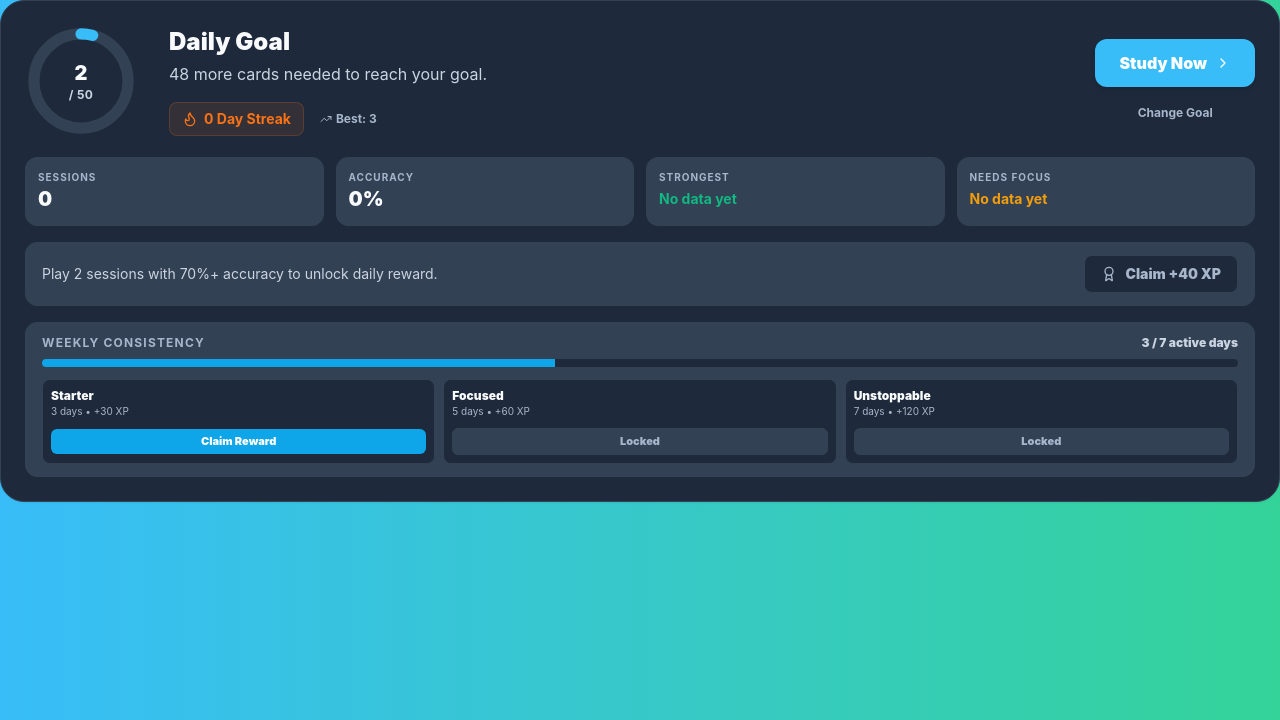
Test case: DailyProgressWidget › claims weekly consistency reward when enough active days are reached
Expected: the text "3 / 7 active days" is shown, [1142,335,1238,351]
Click the button "Claim Reward" at (239, 441), box [51,429,426,454]
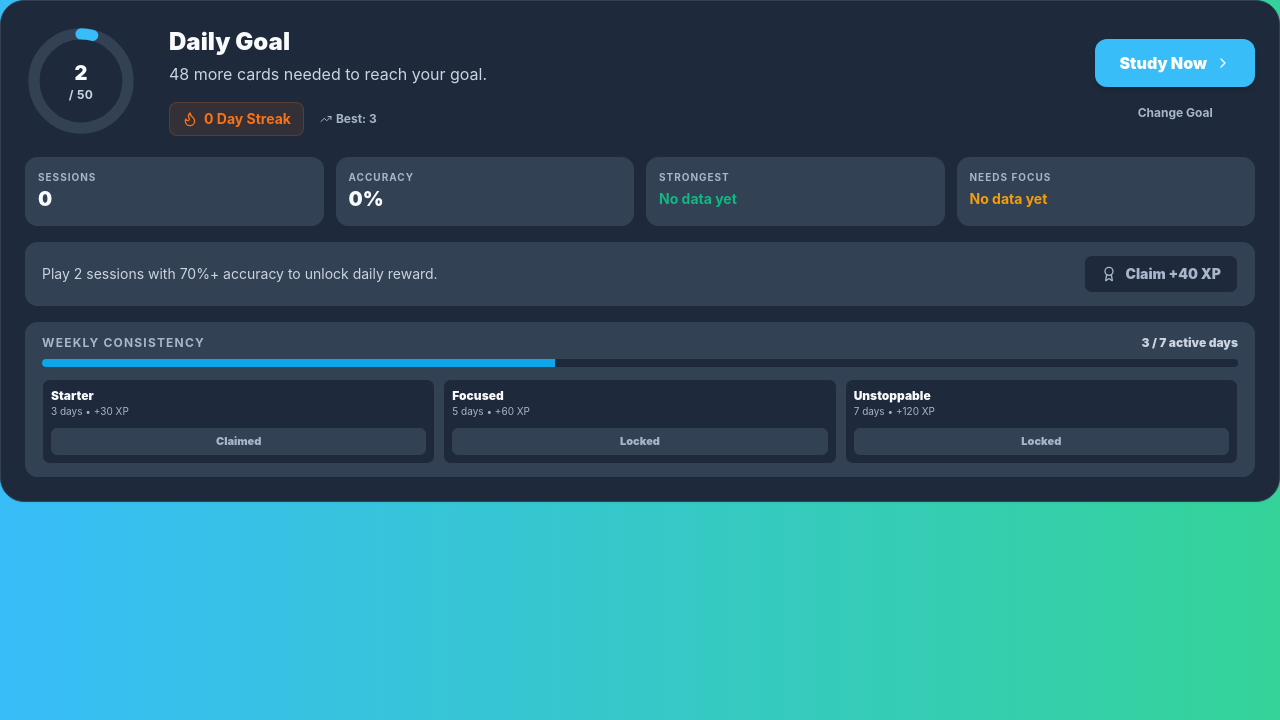
Expected: the button "Claimed" is disabled, [51,428,426,454]
